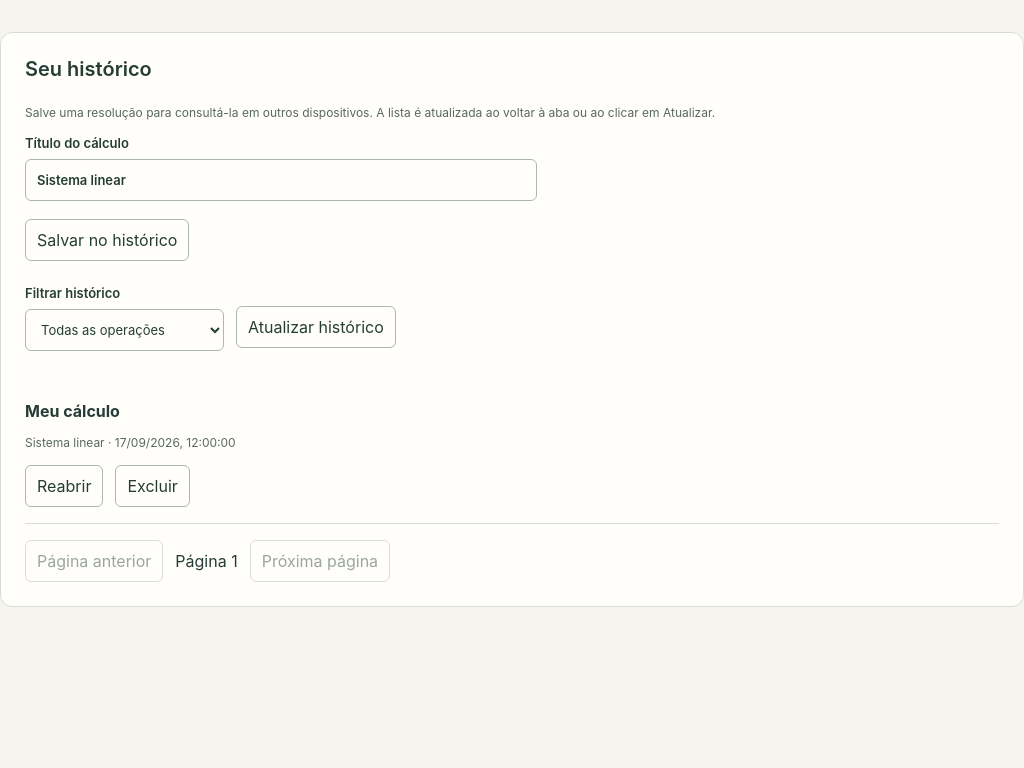
Scenario: history interface lifecycle › requires confirmation before deleting and supports reopening
What coordinates should you click on to do the following:
click the button with aria-label "Reabrir Meu cálculo"
I would click on:
 (64, 486)
Its box is [25,465,103,507].
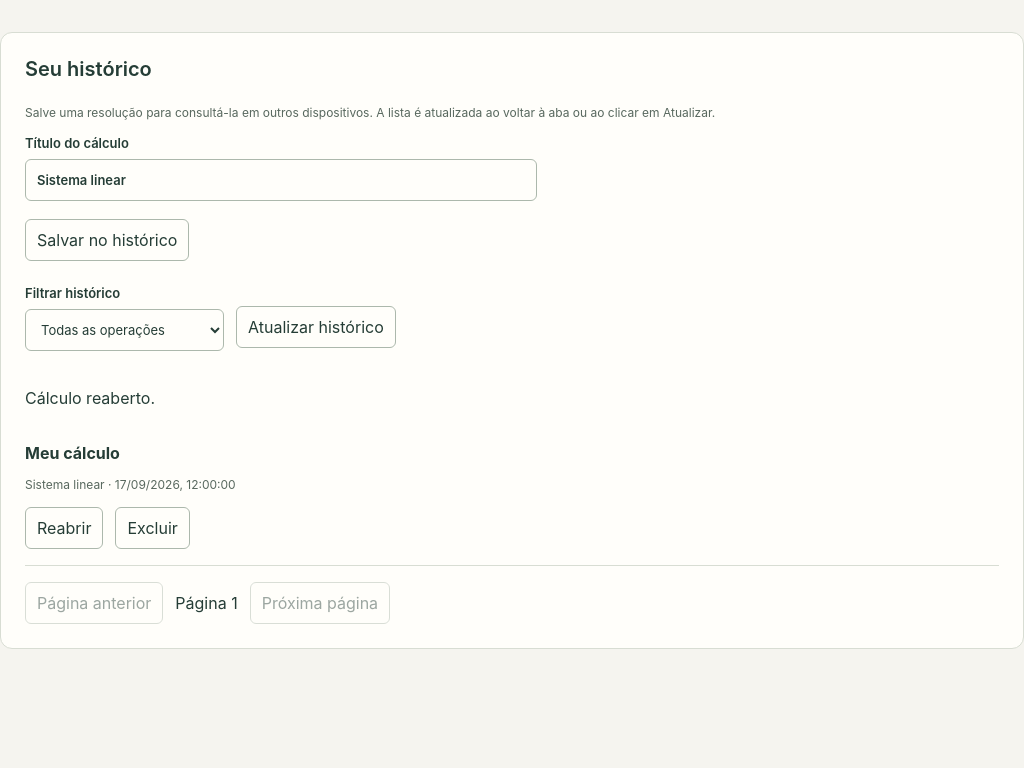
What coordinates should you click on to do the following:
click the button with aria-label "Excluir Meu cálculo"
I would click on:
 (153, 528)
Its box is [115,507,190,549].
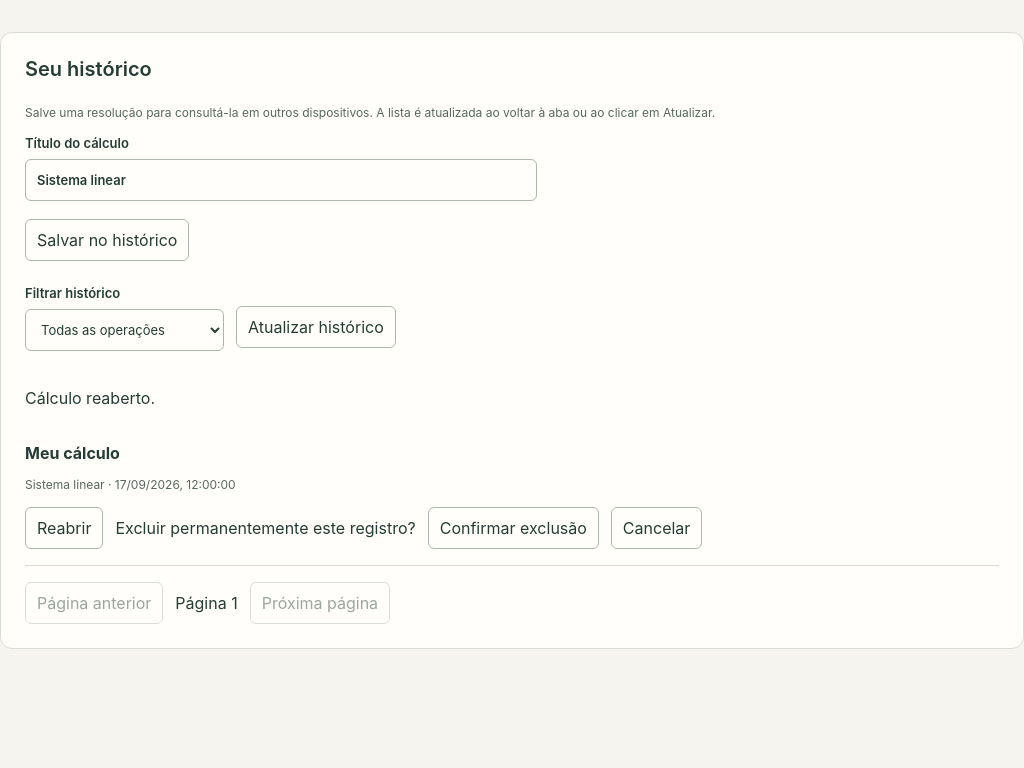
What coordinates should you click on to do the following:
click the button "Cancelar"
I would click on:
 (657, 528)
Its box is [611,507,702,549].
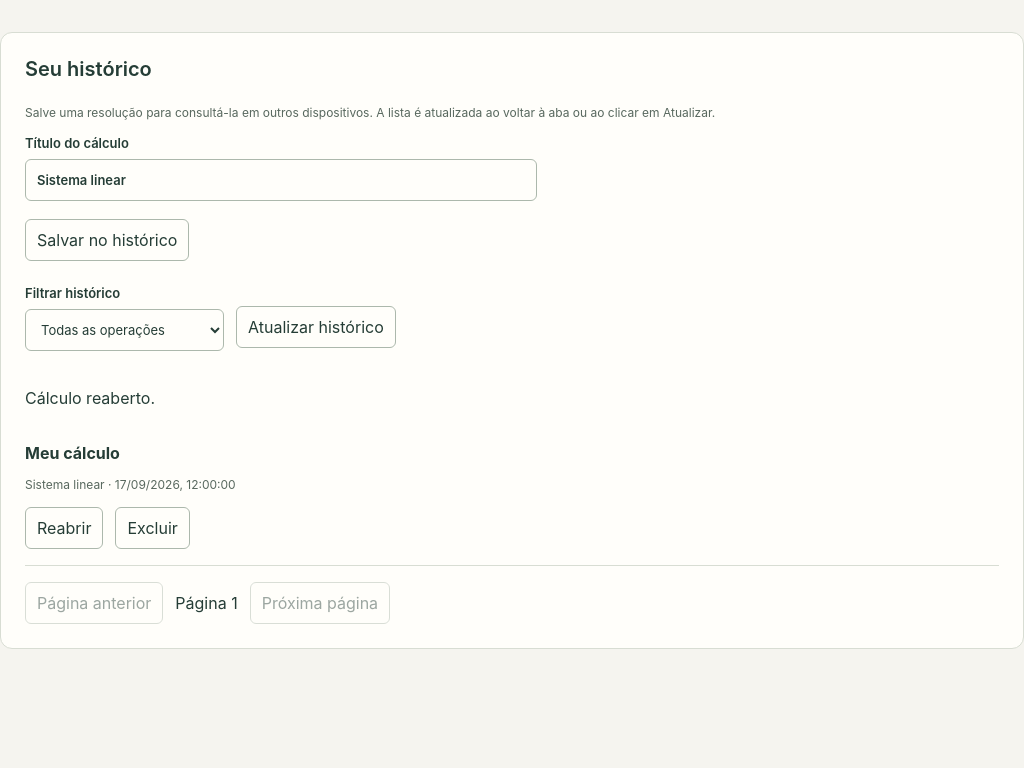
What coordinates should you click on to do the following:
click the button with aria-label "Excluir Meu cálculo"
I would click on:
 (153, 528)
Its box is [115,507,190,549].
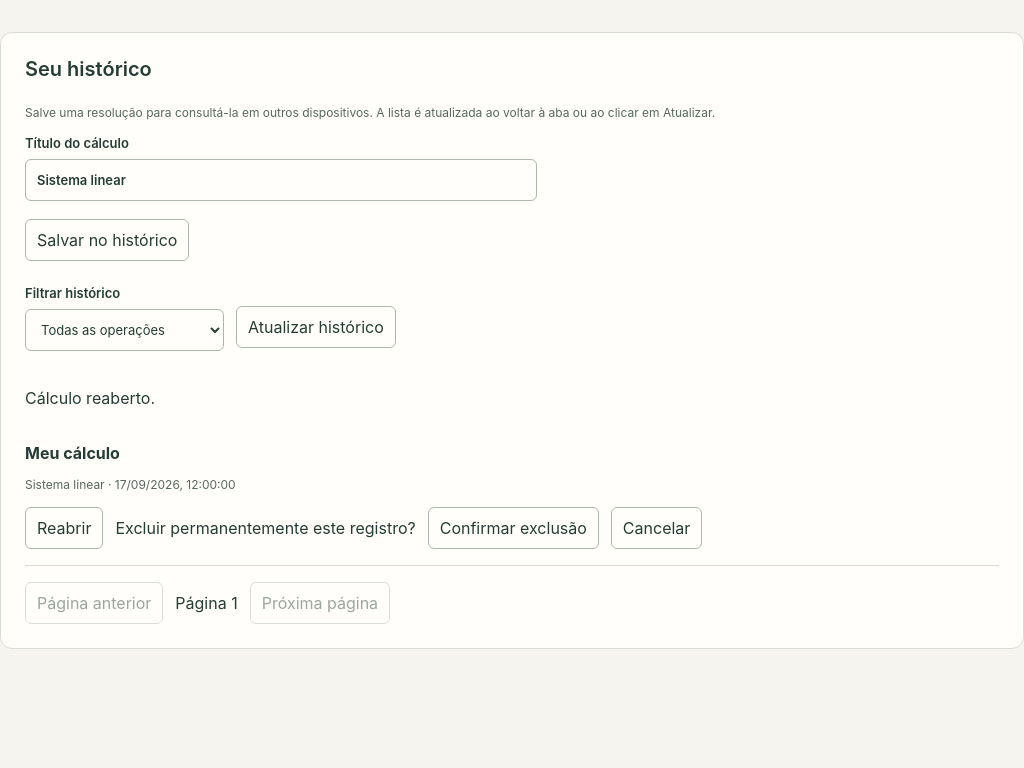
What coordinates should you click on to do the following:
click the button "Confirmar exclusão"
I would click on:
 (513, 528)
Its box is [428,507,599,549].
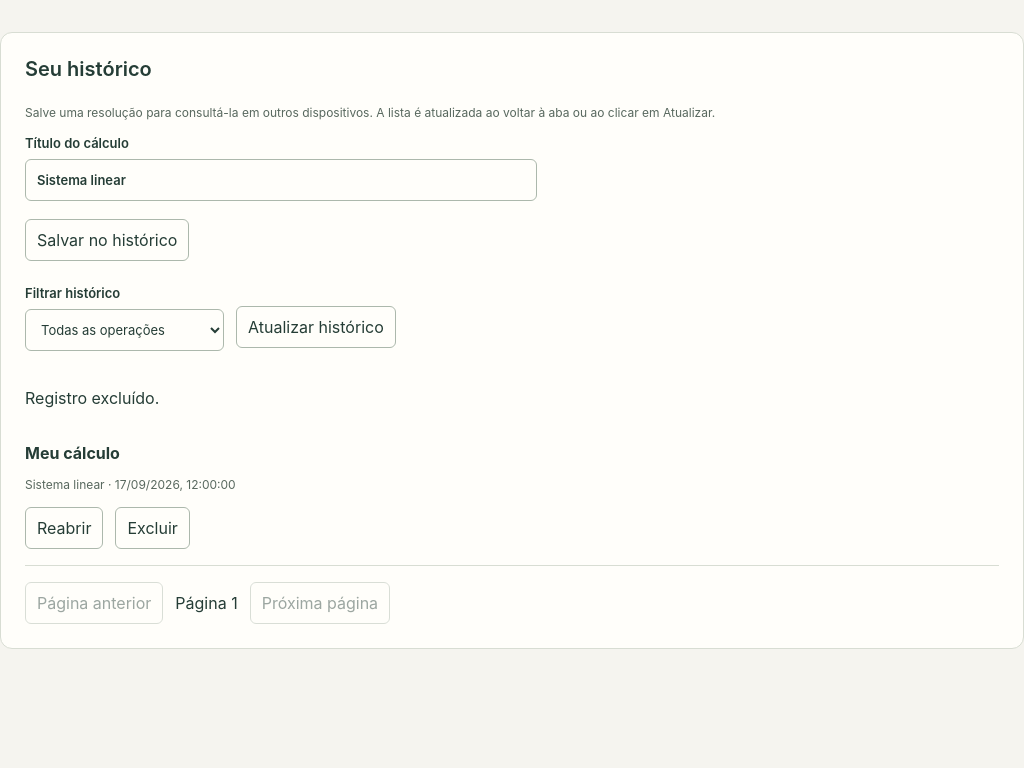
expect the text "Registro excluído." is shown: met, box [25,388,159,408]
